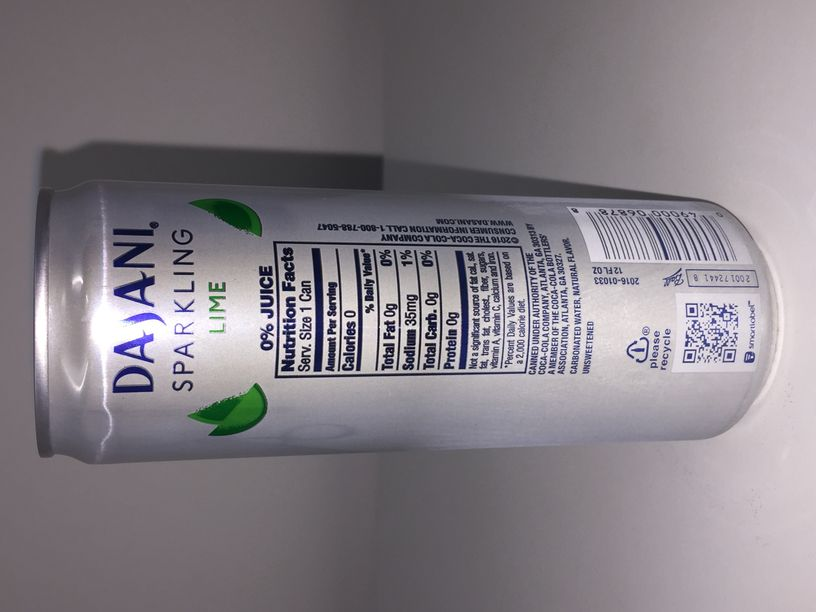lime: (32, 179, 779, 463)
